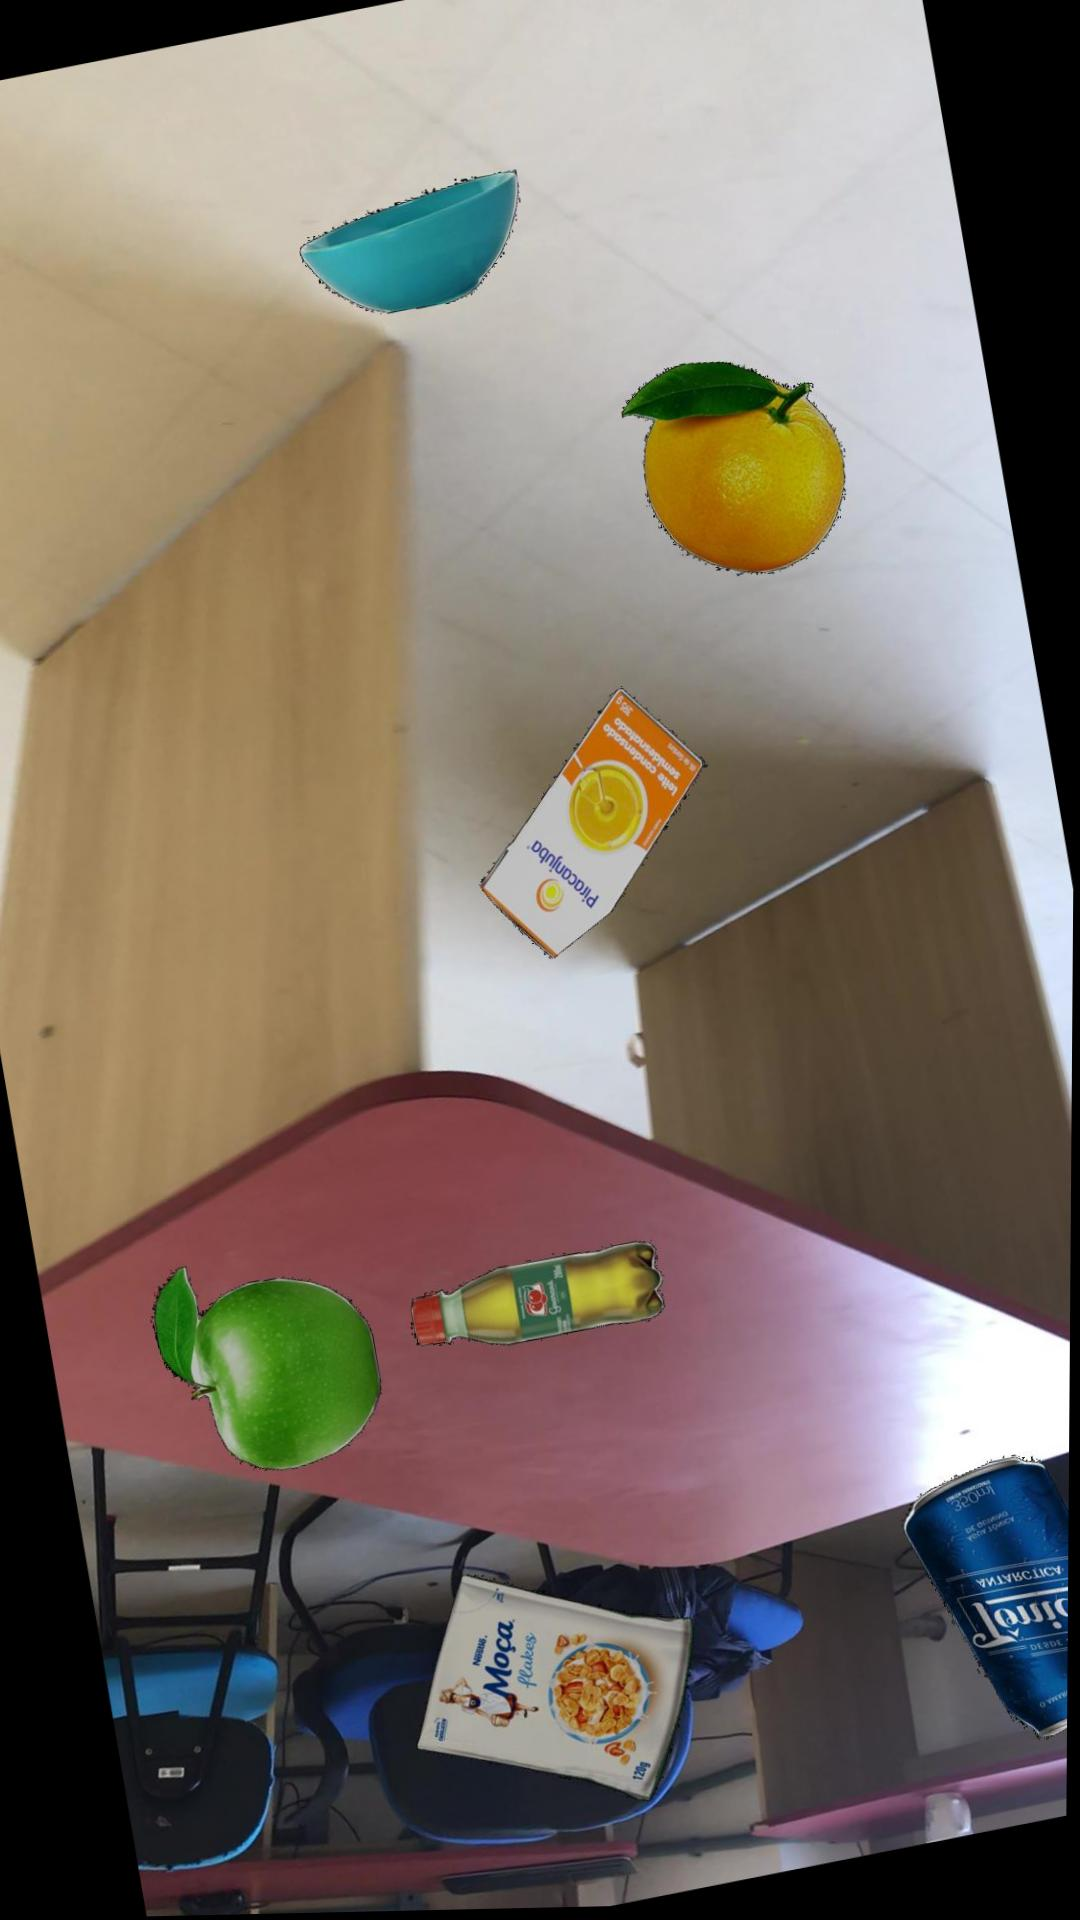bowl: (299, 174, 518, 318)
corn flakes: (418, 1578, 696, 1807)
green apple: (153, 1269, 384, 1473)
guarana: (411, 1246, 666, 1350)
orange: (621, 367, 845, 580)
tonic: (905, 1462, 1071, 1746)
